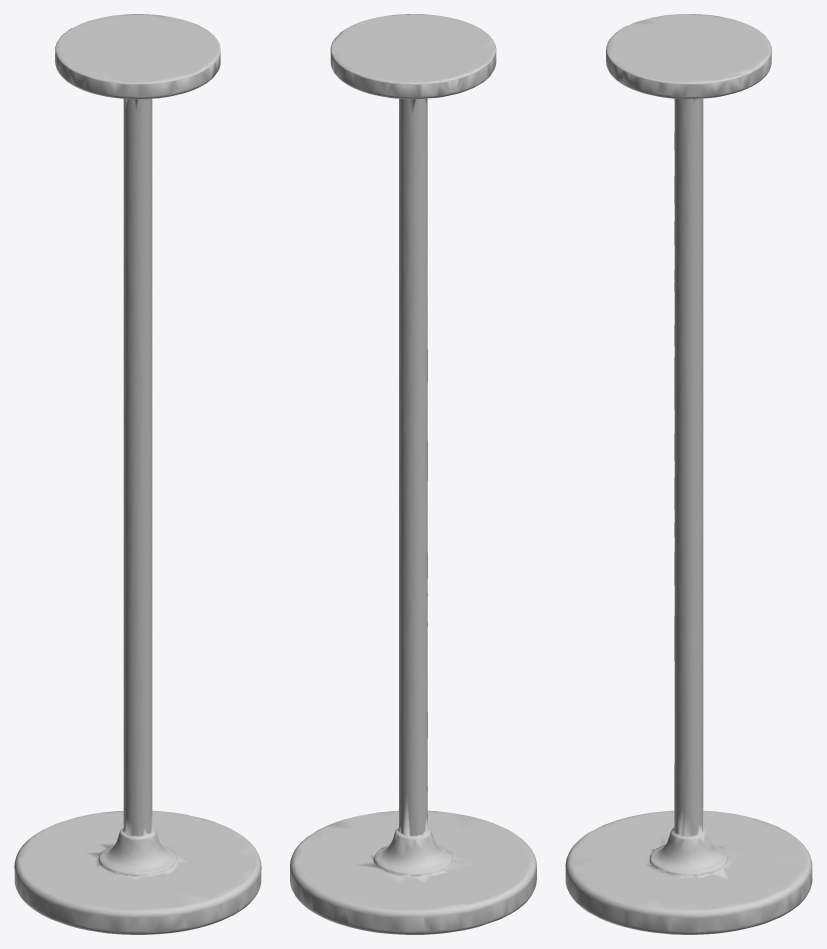
The model's file is stripper_pole.glb.
3 renders of one model, left to right at view 1: azimuth 30°, elevation 25°; view 2: azimuth 150°, elevation 25°; view 3: azimuth 270°, elevation 25°, orthographic.
Bounding box in the file's own units: 0.5095 × 1.9 × 0.5093.
1 material, 1 textured.
